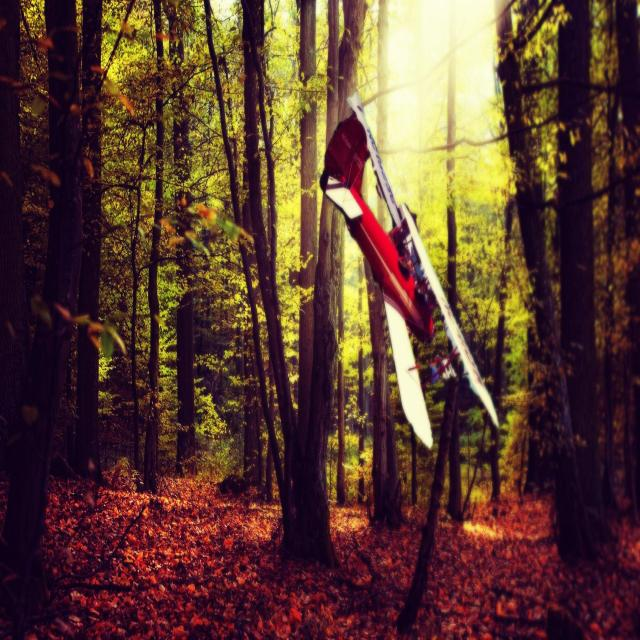airplane: (319, 89, 499, 450)
